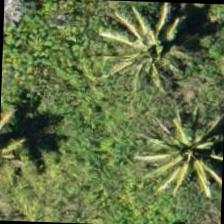Kelapa_Sawit: (118, 14, 210, 108), (148, 127, 222, 220)
